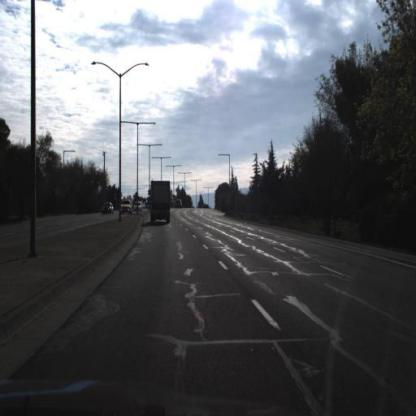car: (97, 198, 117, 221), (118, 196, 134, 220), (102, 201, 115, 217), (122, 200, 133, 216), (175, 199, 183, 210)
truck: (149, 180, 171, 225)
